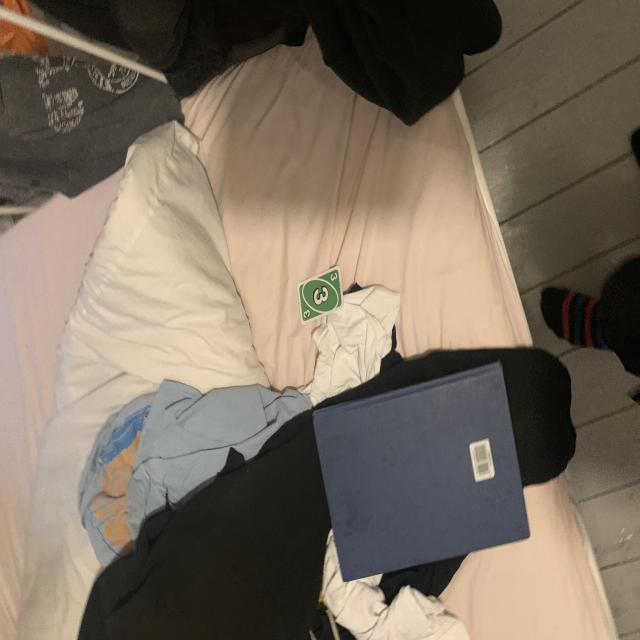lgreen-3: (328, 270, 340, 282)
